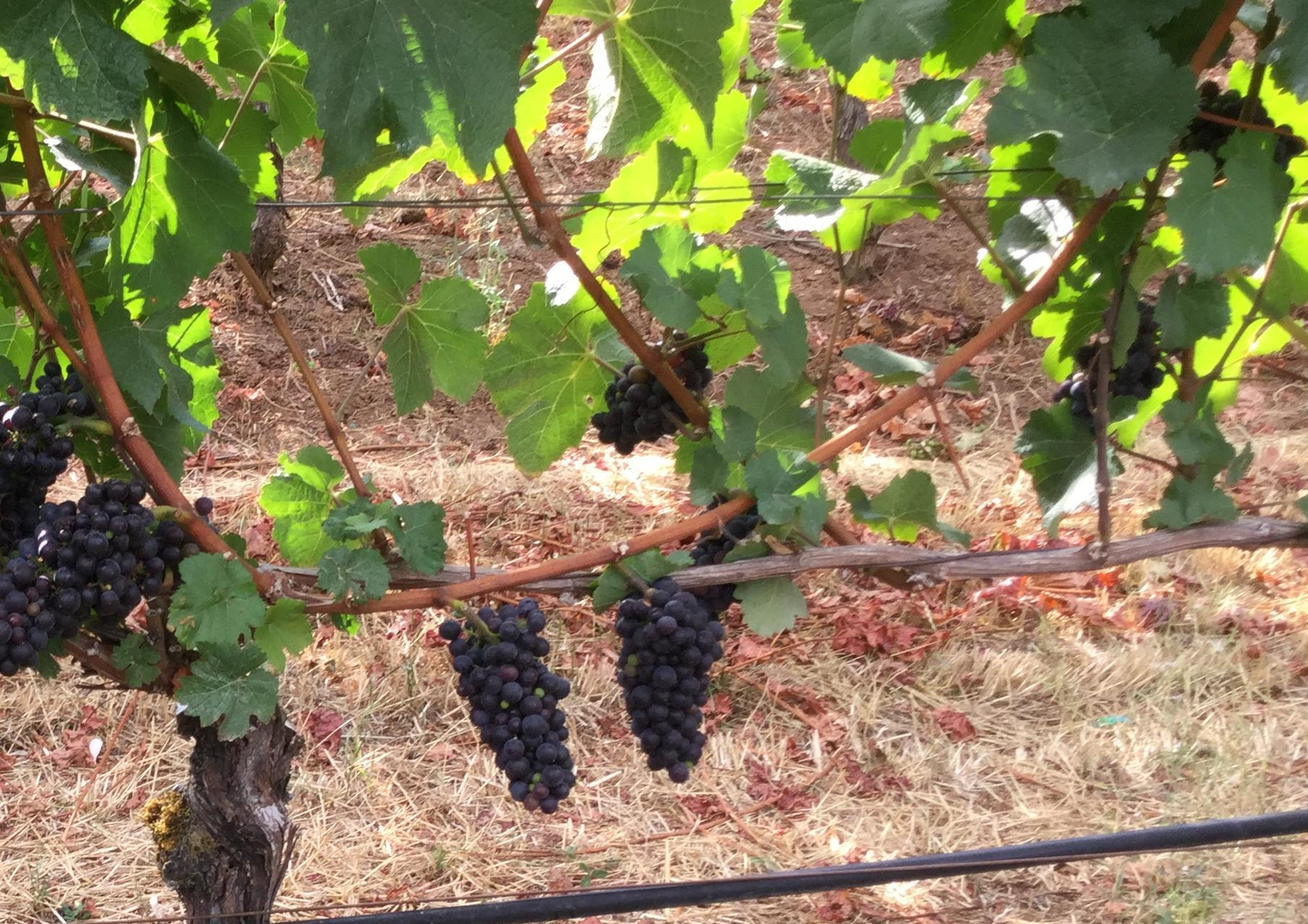Grape Ripe: (0, 480, 199, 675), (438, 598, 575, 814), (615, 576, 733, 782), (0, 365, 112, 533), (581, 338, 708, 468)
